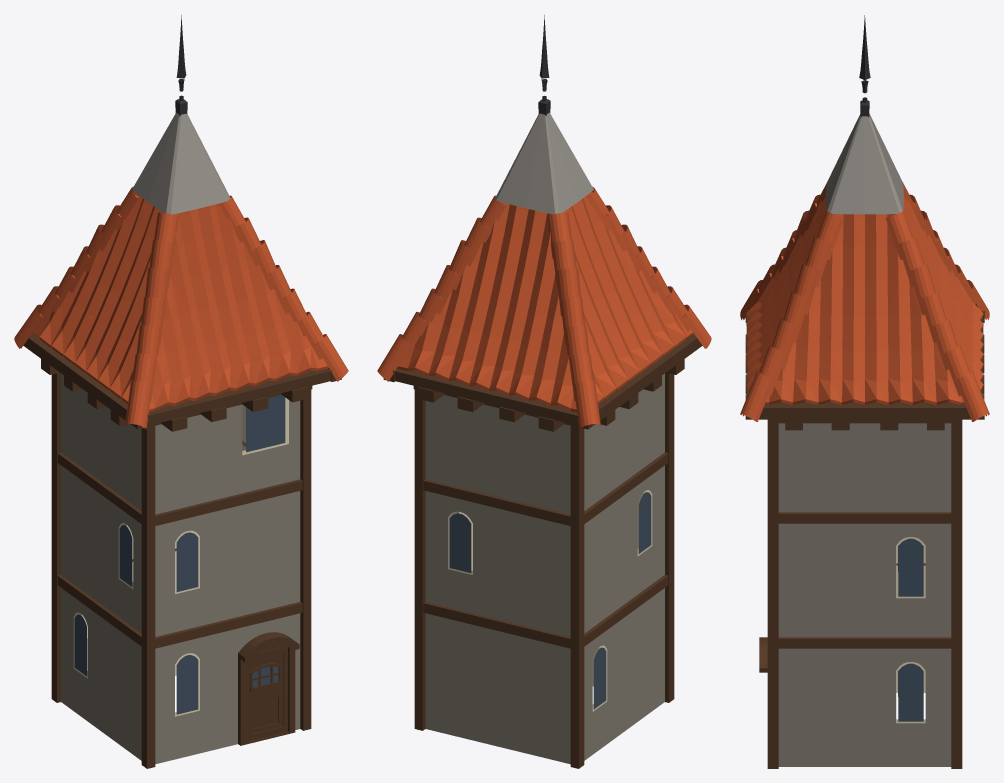
Rendered from mill_tower.obj.
The picture shows the model from 3 angles, left to right: view 1: azimuth 30°, elevation 25°; view 2: azimuth 150°, elevation 25°; view 3: azimuth 270°, elevation 25°; orthographic projection. The views are drawn at different scales.
Bounding box in the file's own units: 5.65 × 17.16 × 5.43.
